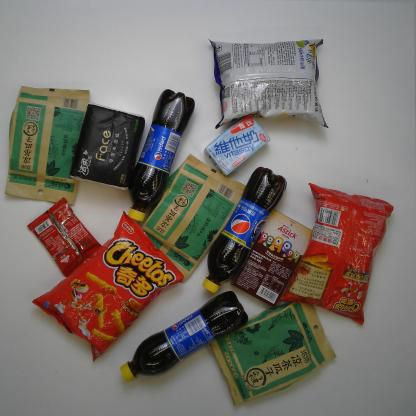Dessert: (230, 206, 316, 308)
Dried Food: (137, 150, 255, 286), (200, 298, 340, 409), (3, 79, 96, 209)
Drink: (117, 286, 252, 382), (199, 167, 289, 296), (122, 80, 200, 222)
Instant Drink: (23, 193, 103, 276)
Milk: (204, 115, 272, 180)
Puffed Food: (29, 210, 186, 364), (276, 180, 394, 329), (205, 33, 333, 132)
Tissue: (70, 99, 149, 193)
